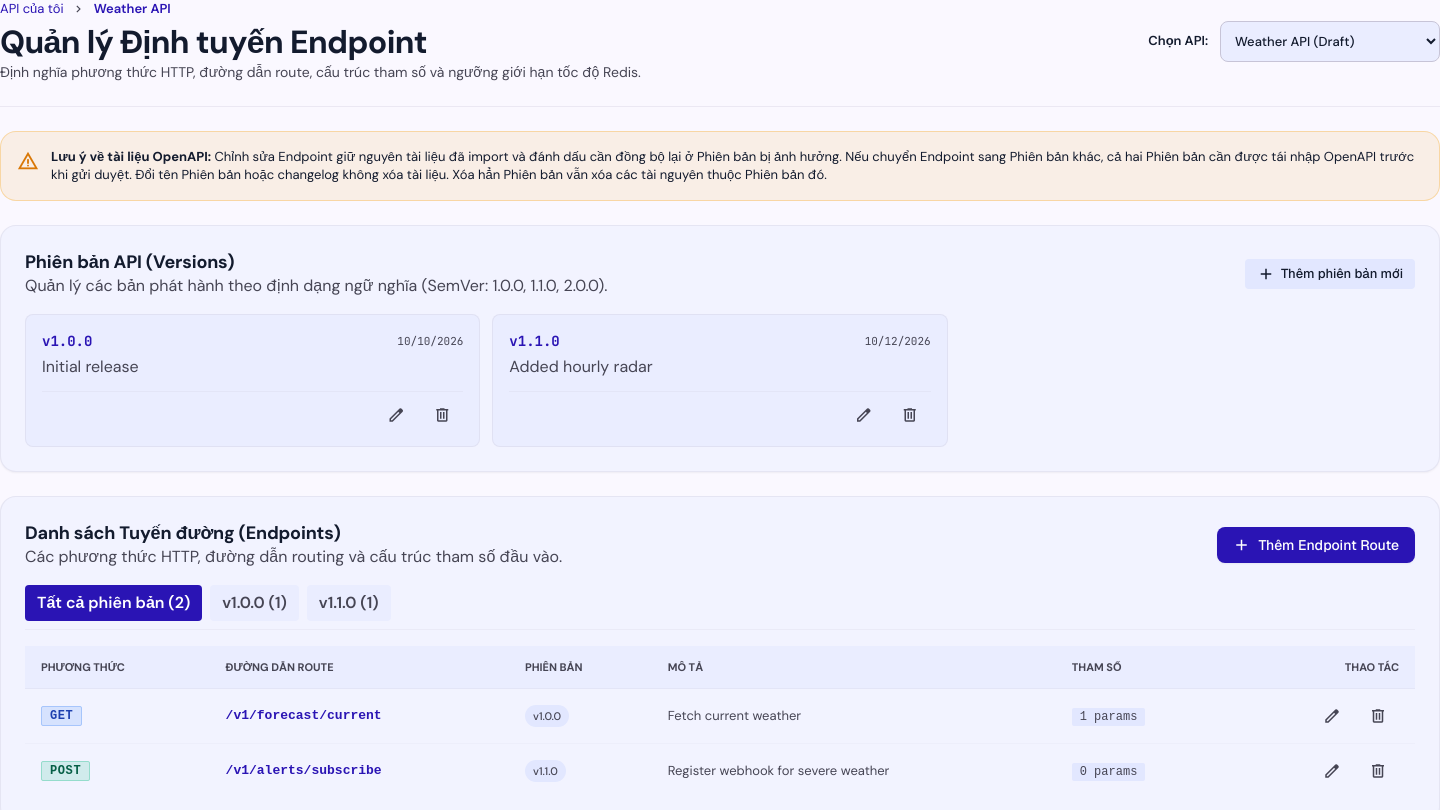
Scenario: EndpointManagementPage component tests › displays versions and endpoints lists with version filter tabs
The image size is (1440, 810).
Expected: the text "v1.0.0" in the row of "10/10/2026" is shown, [42,331,92,351]
Expected: the text "v1.1.0" in the row of "10/12/2026" is shown, [509,331,560,351]
Click the button "v1.0.0 (1)" at [254, 603], box [210,585,299,621]
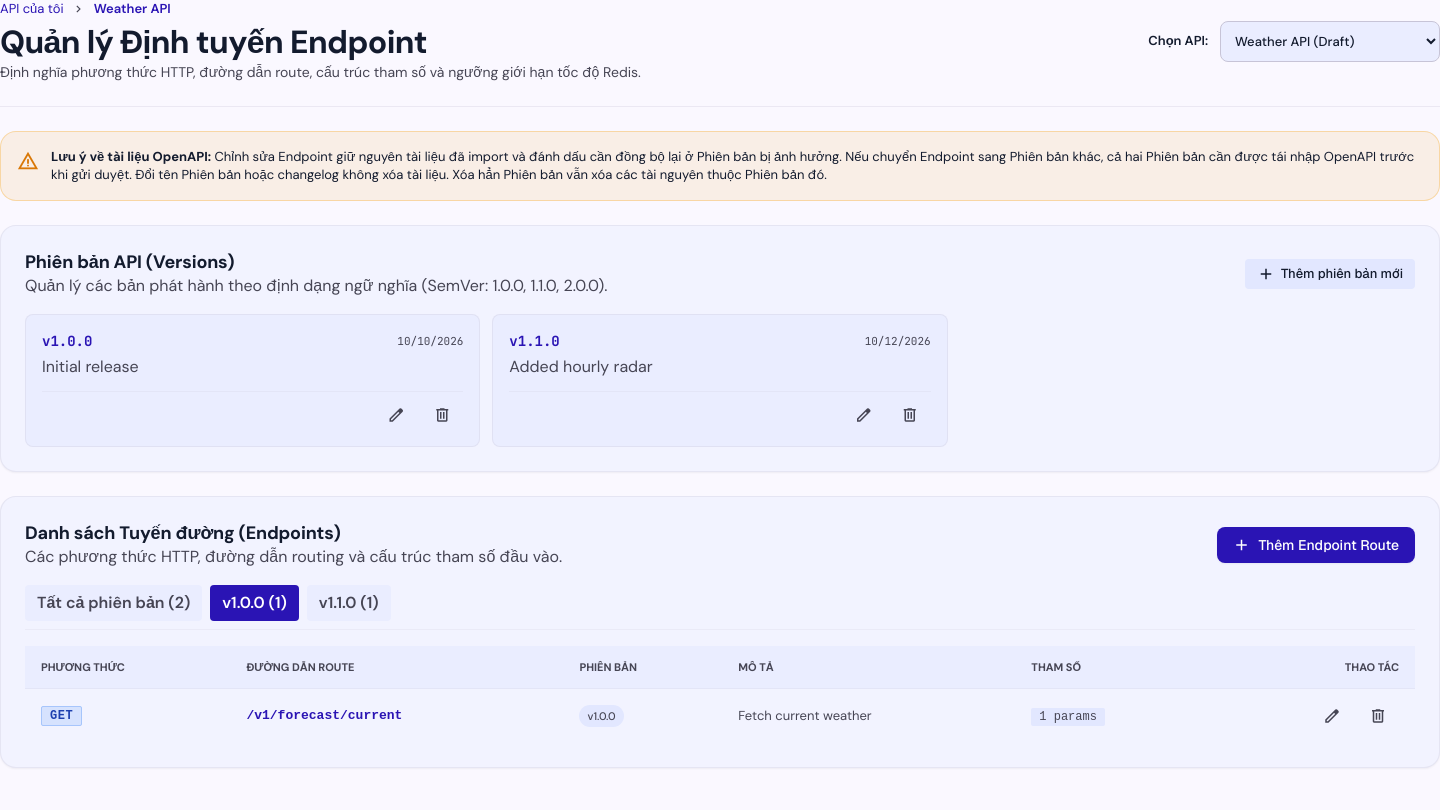
Expected: the text "/v1/forecast/current" is shown, [230,688,564,743]
Expected: the text "/v1/alerts/subscribe" is gone
